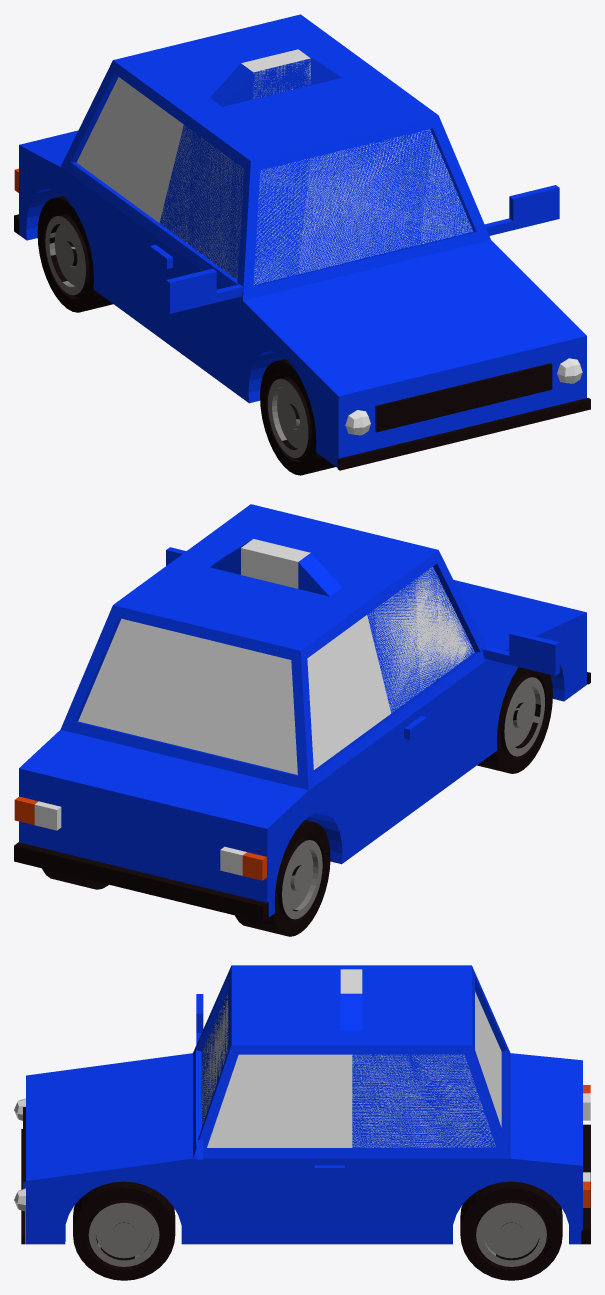
Rendered from BlueCar.fbx.
3 renders of one model, top to bottom at view 1: azimuth 30°, elevation 25°; view 2: azimuth 150°, elevation 25°; view 3: azimuth 270°, elevation 25°, orthographic. The views are drawn at different scales.
Parts seen in each view (by area): view 1: Cube, Cube.001, Cube.006, Cube.005, Cube.002; view 2: Cube, Cube.001, Cube.006, Cube.005; view 3: Cube, Cube.005, Cube.006, Cube.001.
Part boxes in pixels (x1=…): Cube: x1=19, y1=14, x2=586, y2=467; Cube.001: x1=14, y1=168, x2=559, y2=432; Cube.006: x1=37, y1=196, x2=113, y2=312; Cube.005: x1=260, y1=359, x2=335, y2=475; Cube.002: x1=337, y1=398, x2=590, y2=470; Cube: x1=19, y1=504, x2=586, y2=917; Cube.001: x1=14, y1=547, x2=559, y2=922; Cube.006: x1=42, y1=820, x2=330, y2=936; Cube.005: x1=477, y1=667, x2=552, y2=773; Cube: x1=26, y1=965, x2=582, y2=1244; Cube.005: x1=73, y1=1181, x2=175, y2=1280; Cube.006: x1=460, y1=1181, x2=562, y2=1280; Cube.001: x1=23, y1=994, x2=590, y2=1244.
Size of the model in its own units: 398 by 280 by 586.
